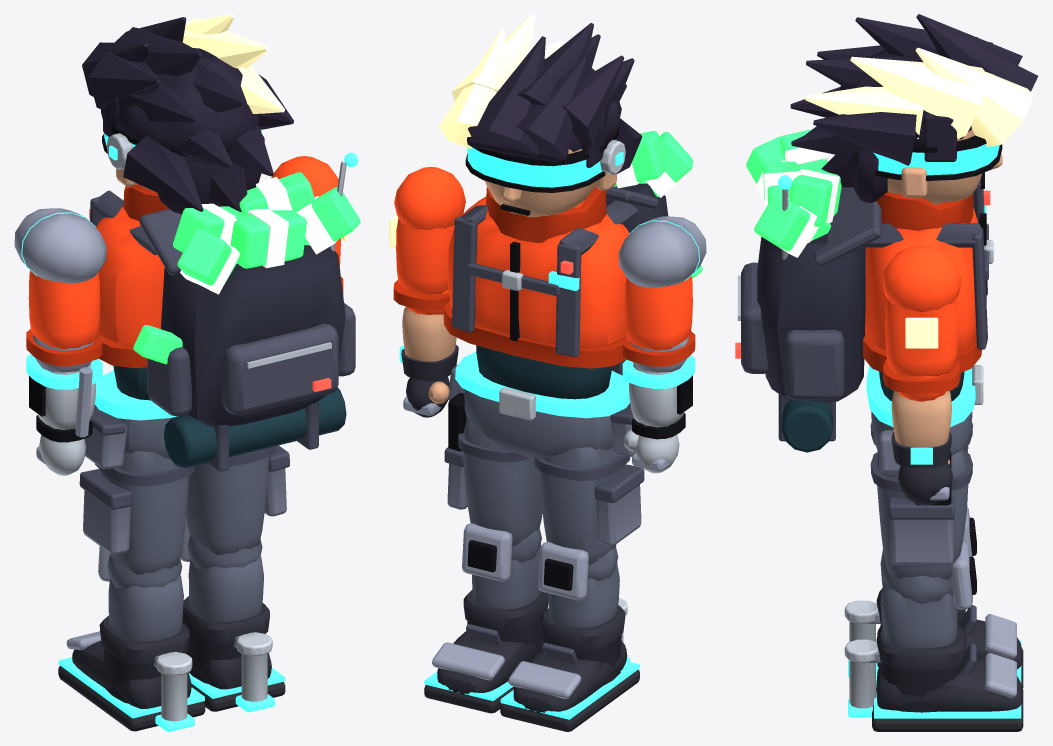
File: runner.glb
3 renders of one model, left to right at view 1: azimuth 30°, elevation 25°; view 2: azimuth 150°, elevation 25°; view 3: azimuth 270°, elevation 25°, orthographic. The views are drawn at different scales.
Visible parts, largest first — view 1: Pack, Head, ShinL, ShinR, UpperArmL, Torso, ThighL, ThighR, ForearmL, Pelvis, UpperArmR; view 2: Torso, Head, ShinL, ShinR, Pelvis, UpperArmL, ThighL, ThighR, UpperArmR, ForearmL, ForearmR, Pack; view 3: Head, Pack, ShinR, Torso, UpperArmR, ThighR, ForearmR, ShinL, Pelvis.
Part boxes in pixels (box(x1,y1,x2,y2)): Pack: box(133, 152, 360, 471); Head: box(82, 14, 293, 214); ShinL: box(58, 546, 205, 731); ShinR: box(180, 518, 285, 712); UpperArmL: box(14, 208, 106, 366); Torso: box(89, 184, 168, 400); ThighL: box(79, 451, 195, 574); ThighR: box(186, 445, 289, 555); ForearmL: box(26, 335, 102, 475); Pelvis: box(84, 370, 177, 468); UpperArmR: box(271, 156, 347, 294); Torso: box(443, 186, 637, 399); Head: box(439, 14, 642, 217); ShinL: box(500, 542, 639, 731); ShinR: box(424, 523, 548, 713); Pelvis: box(448, 352, 635, 459); UpperArmL: box(618, 216, 706, 366); ThighL: box(534, 447, 644, 565); ThighR: box(444, 393, 542, 546); UpperArmR: box(389, 166, 465, 310); ForearmL: box(622, 337, 695, 473); ForearmR: box(399, 289, 458, 417); Pack: box(606, 131, 702, 375); Head: box(790, 14, 1038, 204); Pack: box(735, 129, 881, 452); ShinR: box(844, 542, 1023, 731); Torso: box(860, 179, 993, 401); UpperArmR: box(882, 245, 961, 393); ThighR: box(870, 449, 972, 579); ForearmR: box(891, 373, 952, 505); ShinL: box(844, 507, 1023, 688); Pelvis: box(866, 365, 983, 473).
Bounding box in the file's own units: 0.9942 × 2.02 × 0.8213.
1 material, 1 textured.
